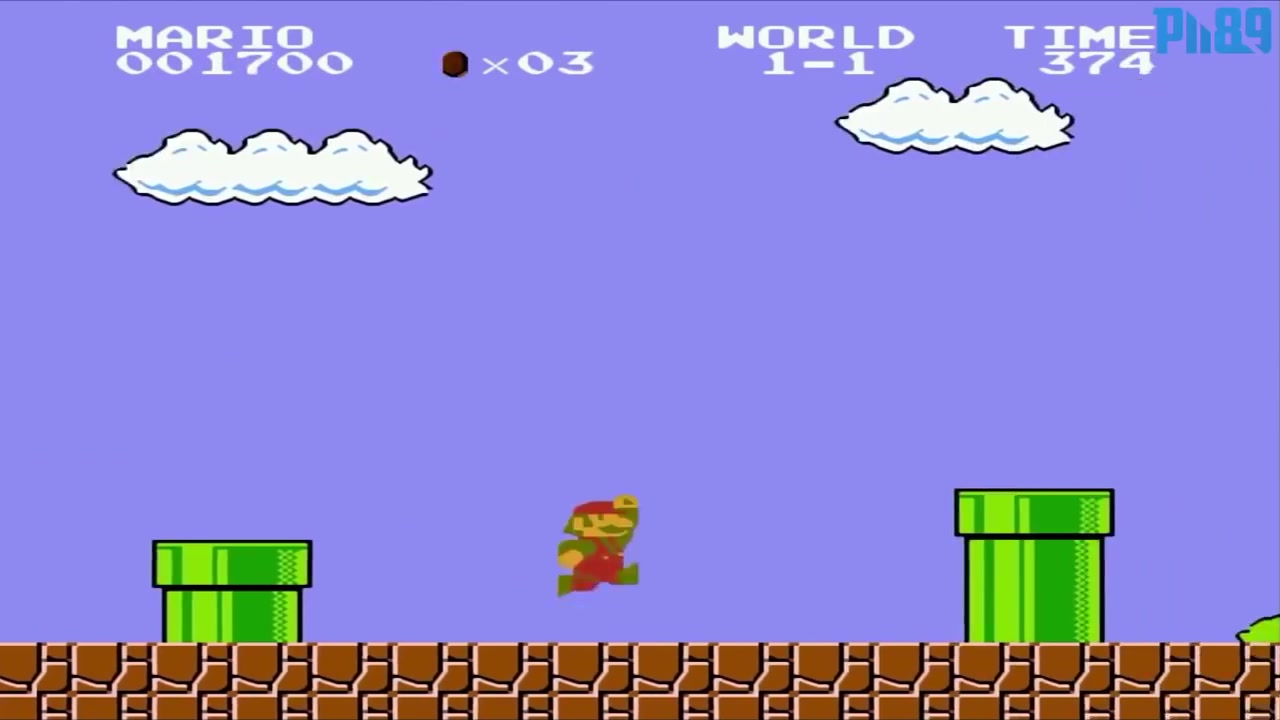mario: (548, 484, 647, 602)
